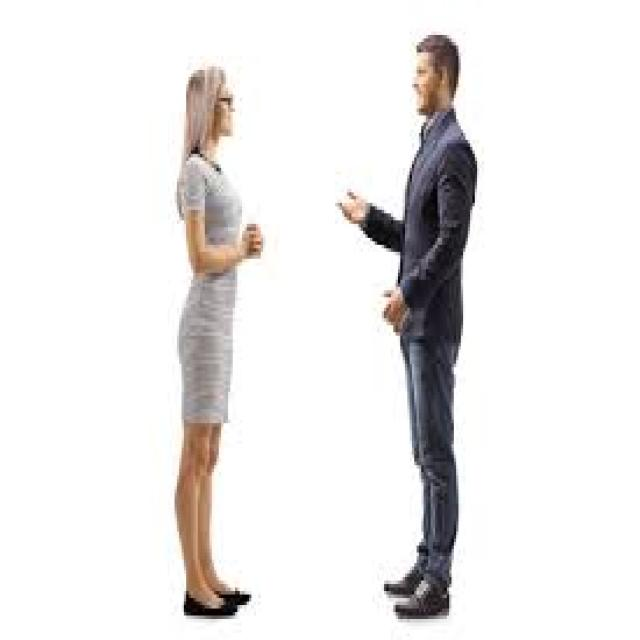standing: (331, 33, 485, 623), (172, 65, 264, 622)
